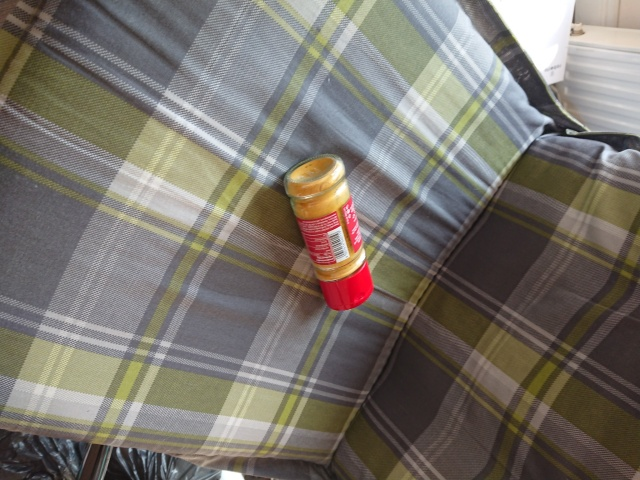Kotanyi Curry Spices Mix 70g: (281, 151, 376, 314)
